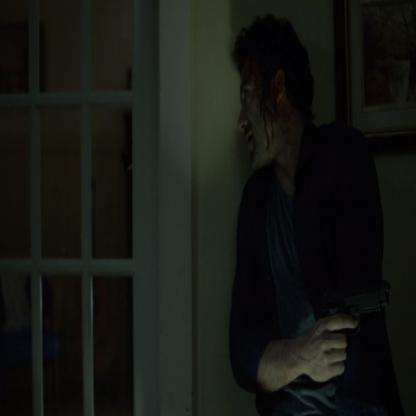Guns: (316, 274, 393, 374)
